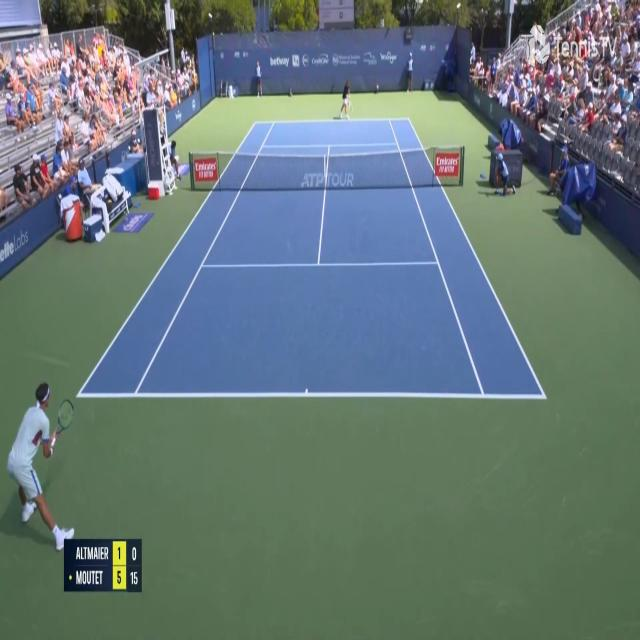tennis-player: (4, 378, 76, 546), (338, 77, 354, 123)
